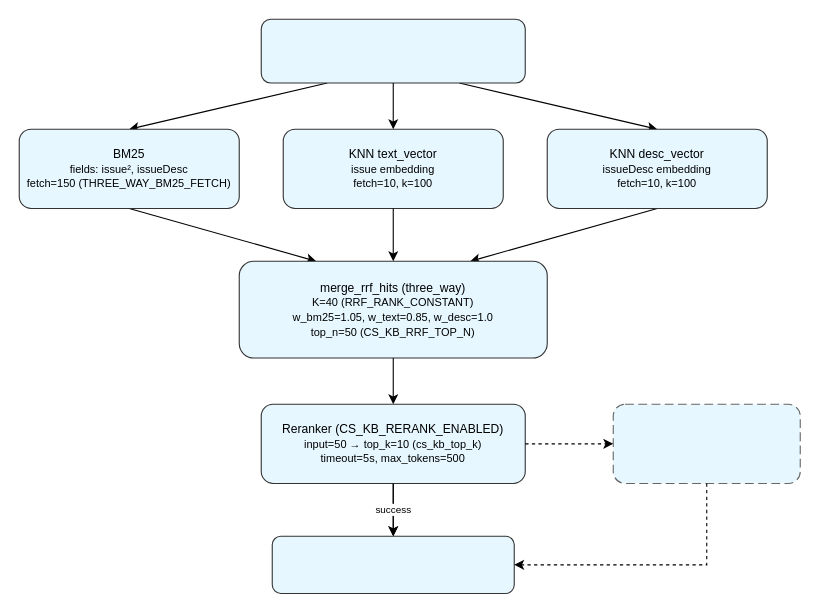
The diagram is 820 pixels wide and 613 high, and some of its shapes have lost their labels. The shapes that lost their labels are listed below. From the top down, each one's centre as x and y in pixels, then its label:
At point (392, 50): "Rewritten Query q̃ async_fetch_query_embedding ∥ BM25 (no embedding)".
At point (706, 443): "RRF fallback incomplete config / API failure truncate top_k by RRF order".
At point (392, 564): "Ranked Hits C_faq top_k=10 → LLM candidate pool".
